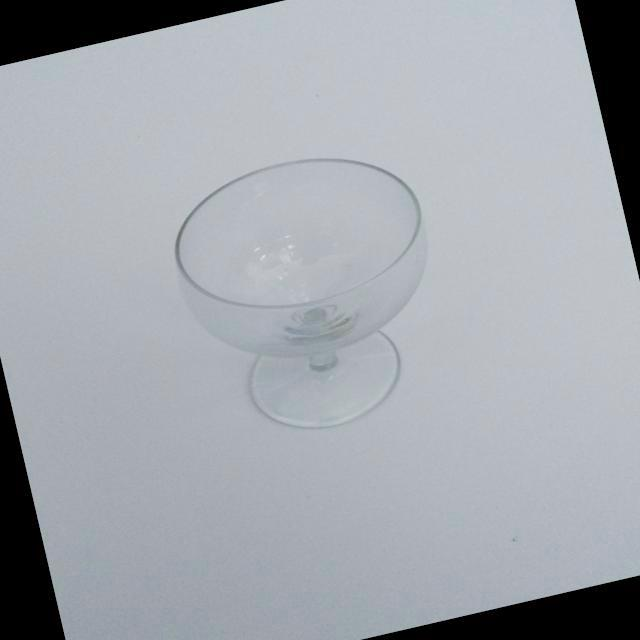glass: (140, 114, 492, 472)
